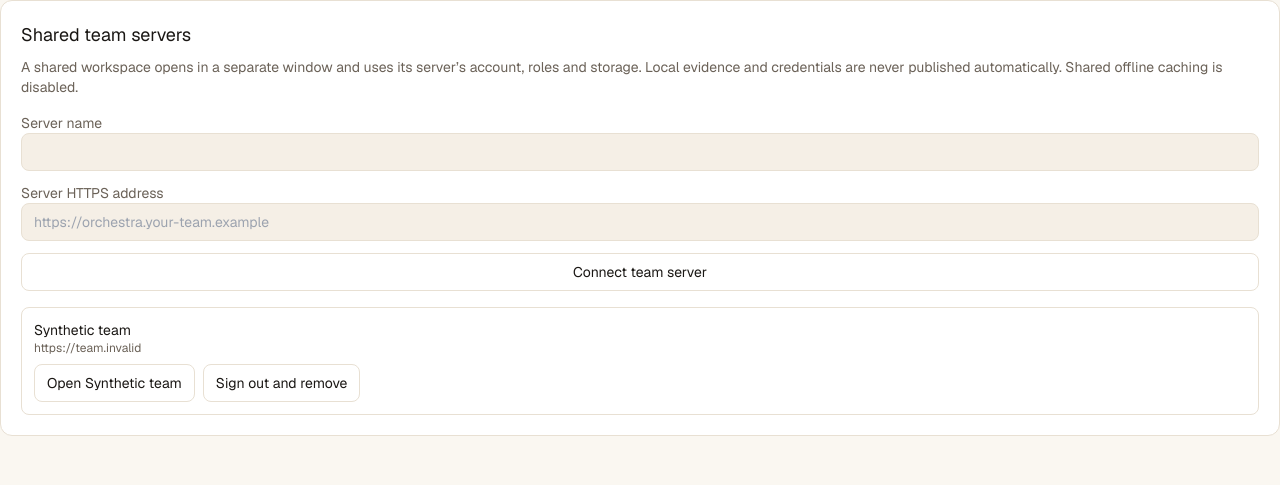
it: preserves a server row when sign-out or removal is not confirmed
Click the button "Sign out and remove" at (282, 383), box [203,364,360,402]
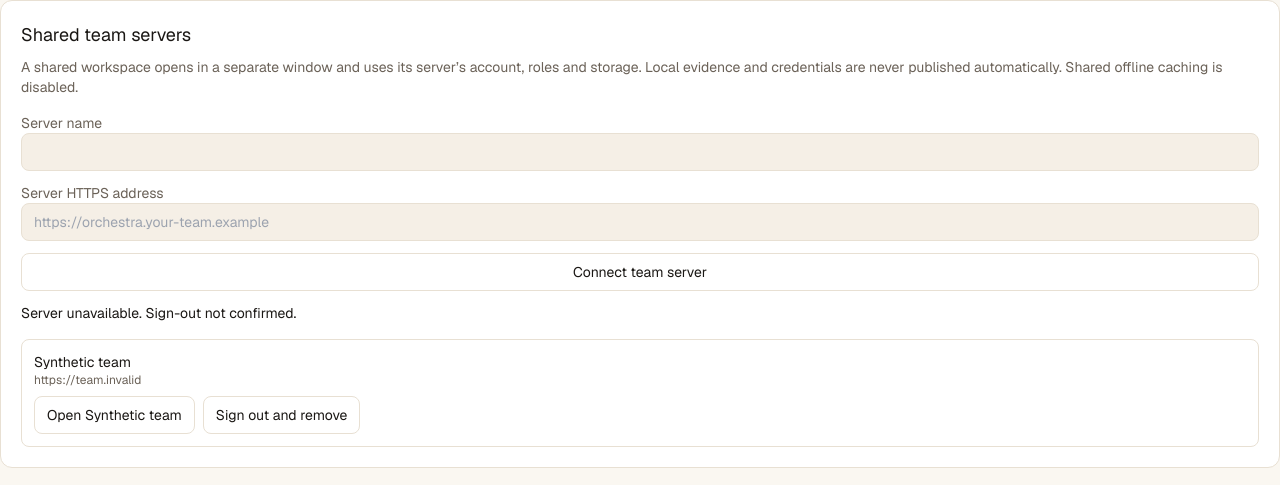
Expected: the button "Open Synthetic team" is shown, [34,396,195,434]
Result: the message shows "Sign-out not confirmed" at [21,304,296,322]
